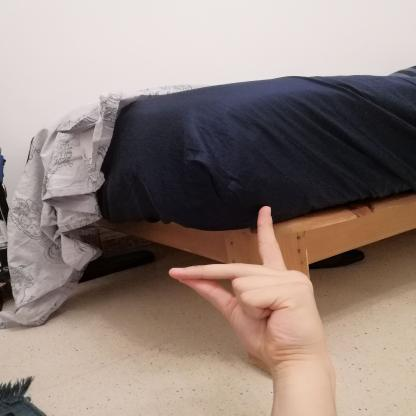TAA: (155, 197, 335, 370)
